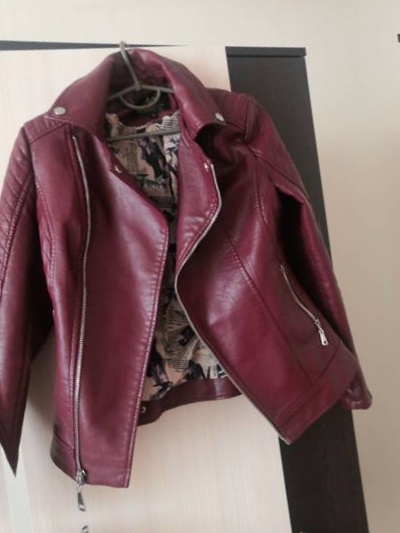Blazer: (0, 22, 388, 501), (370, 0, 400, 443), (30, 501, 400, 533), (0, 75, 14, 533)
